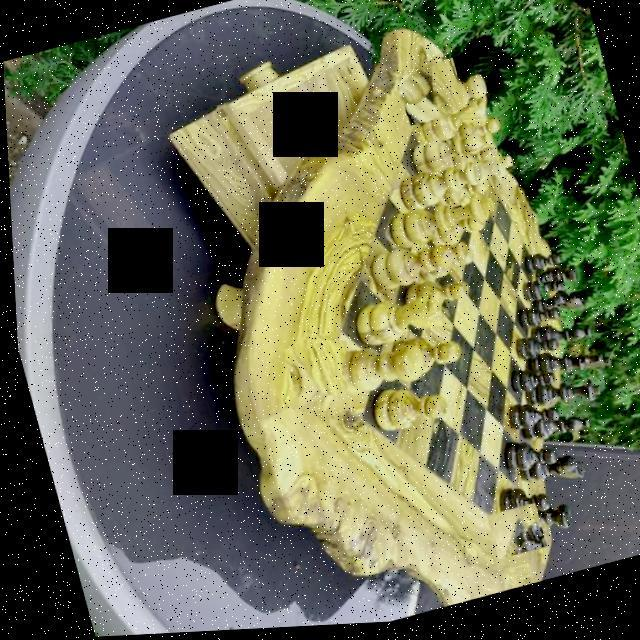chess-table-corners: (274, 332, 352, 426), (389, 57, 467, 131), (479, 508, 539, 564), (530, 268, 566, 316)
